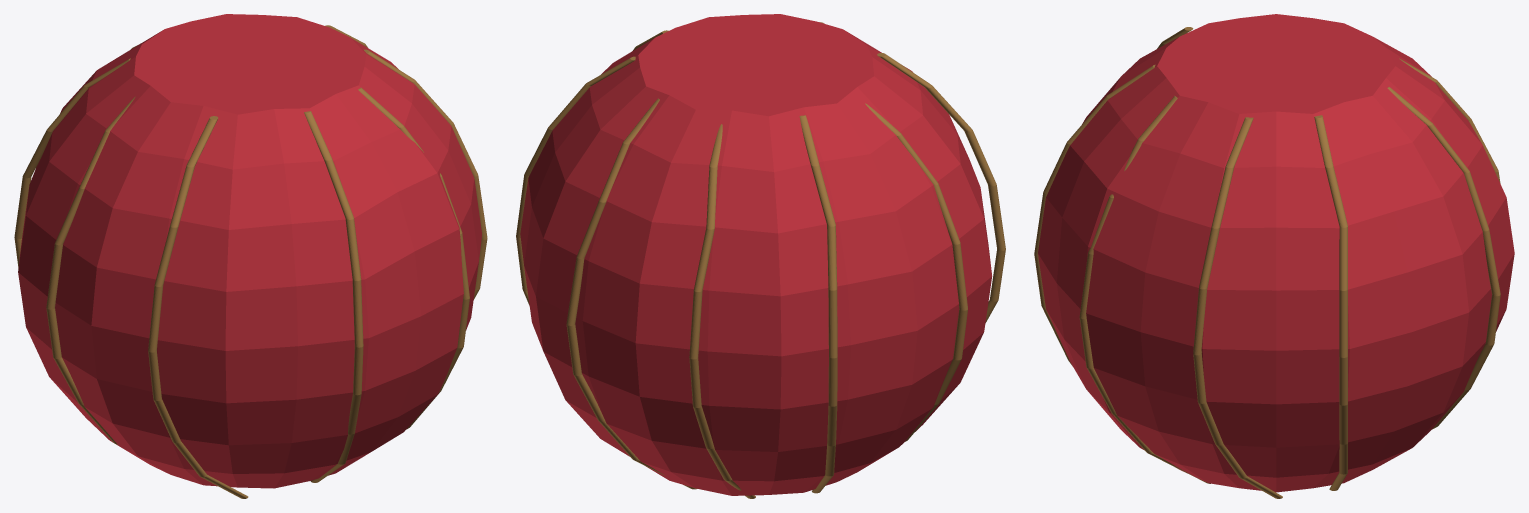
The model's file is FinalLantern.fbx.
3 renders of one model, left to right at view 1: azimuth 30°, elevation 25°; view 2: azimuth 150°, elevation 25°; view 3: azimuth 270°, elevation 25°, orthographic.
Parts seen in each view (by area): view 1: Cylinder.002; view 2: Cylinder.002; view 3: Cylinder.002.
Boxes of the visible parts, x1,y1,x2,y2 form: Cylinder.002: [14, 14, 487, 498]; Cylinder.002: [516, 14, 1005, 498]; Cylinder.002: [1034, 14, 1514, 498].
Size of the model in its own units: 198 by 180 by 202.
